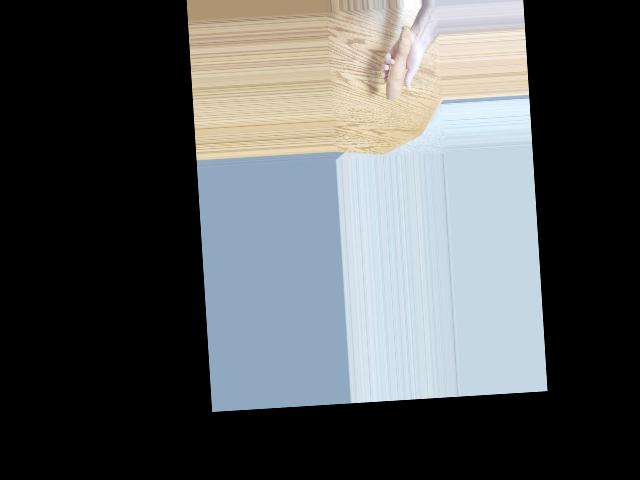sweet_potato: (378, 17, 415, 101)
